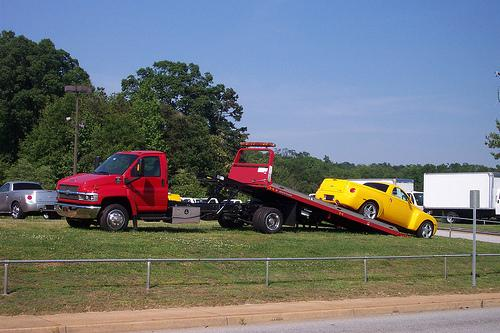truck: (53, 141, 438, 239)
